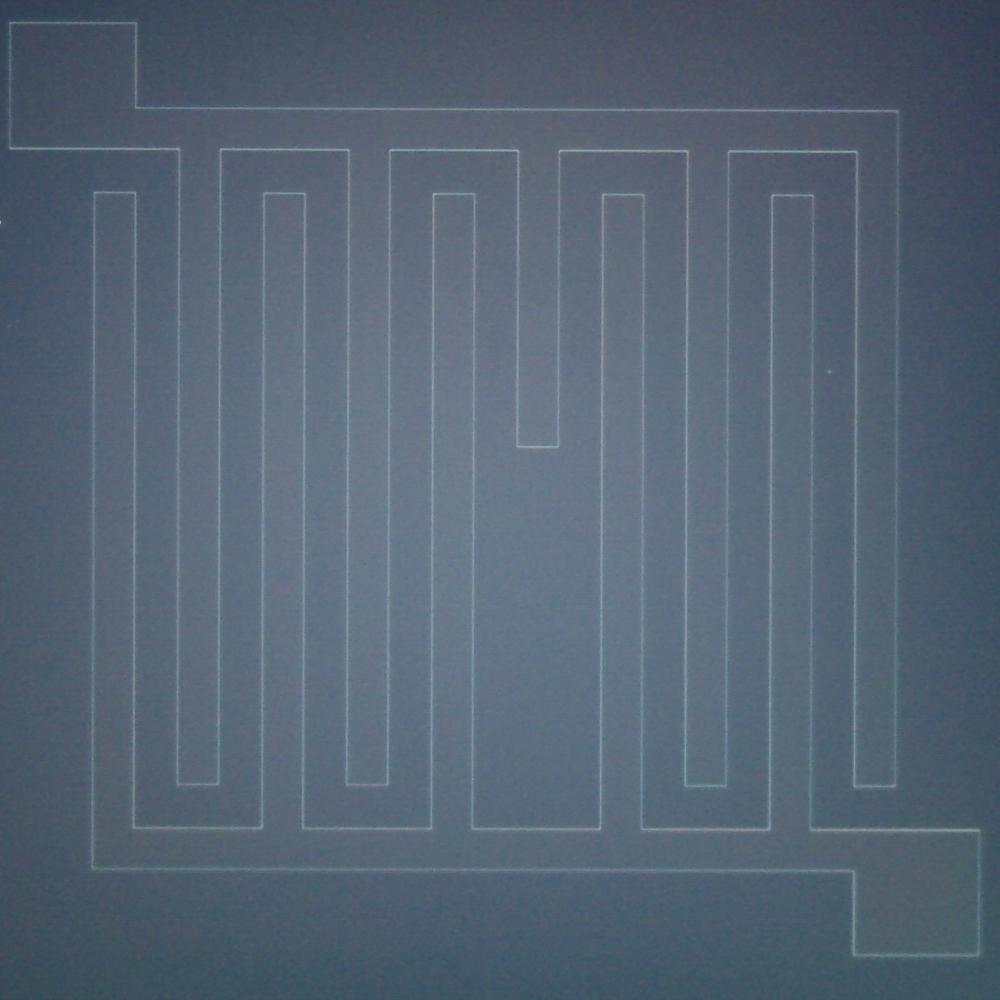dot: (826, 368, 832, 374)
